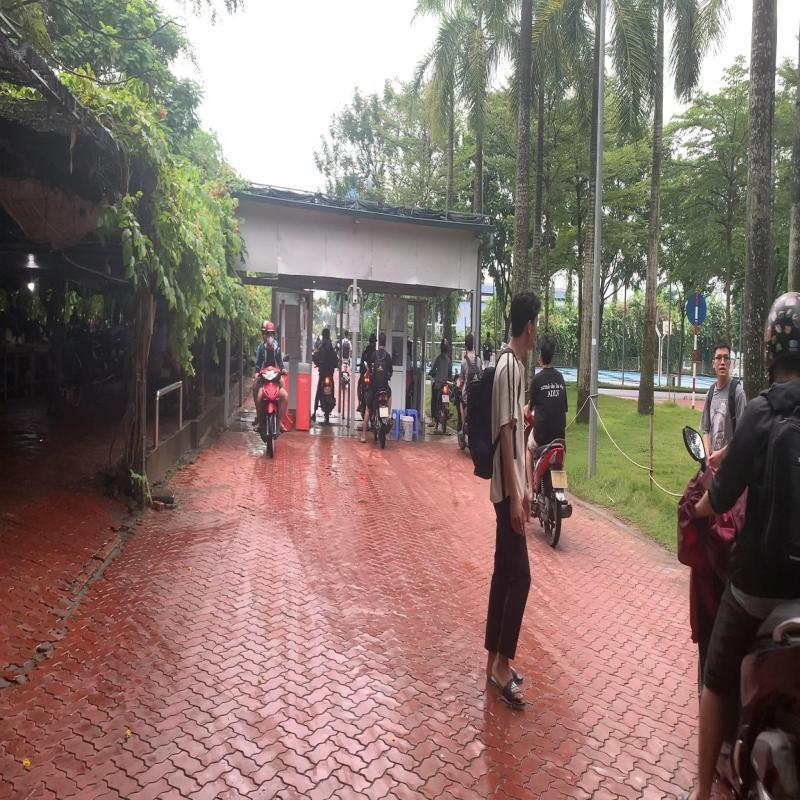nohelmet: (538, 333, 557, 367), (466, 332, 476, 350)
